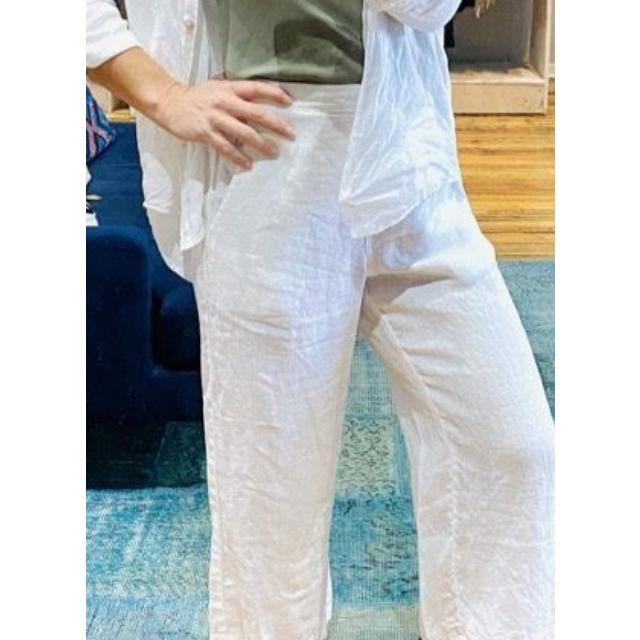linen: (85, 0, 529, 640)
